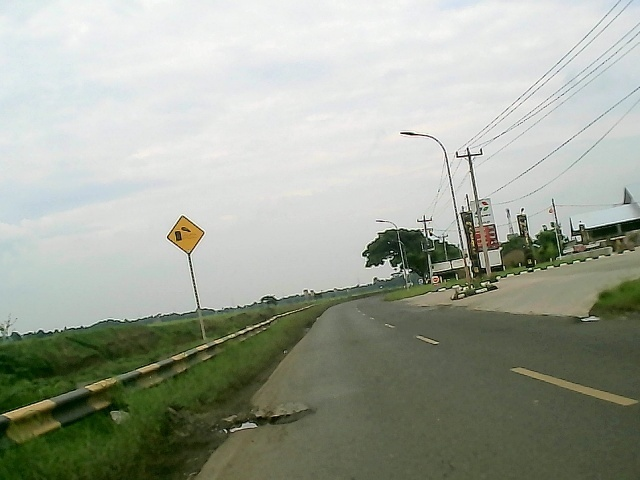Peringatan tepi air: (166, 214, 204, 256)
